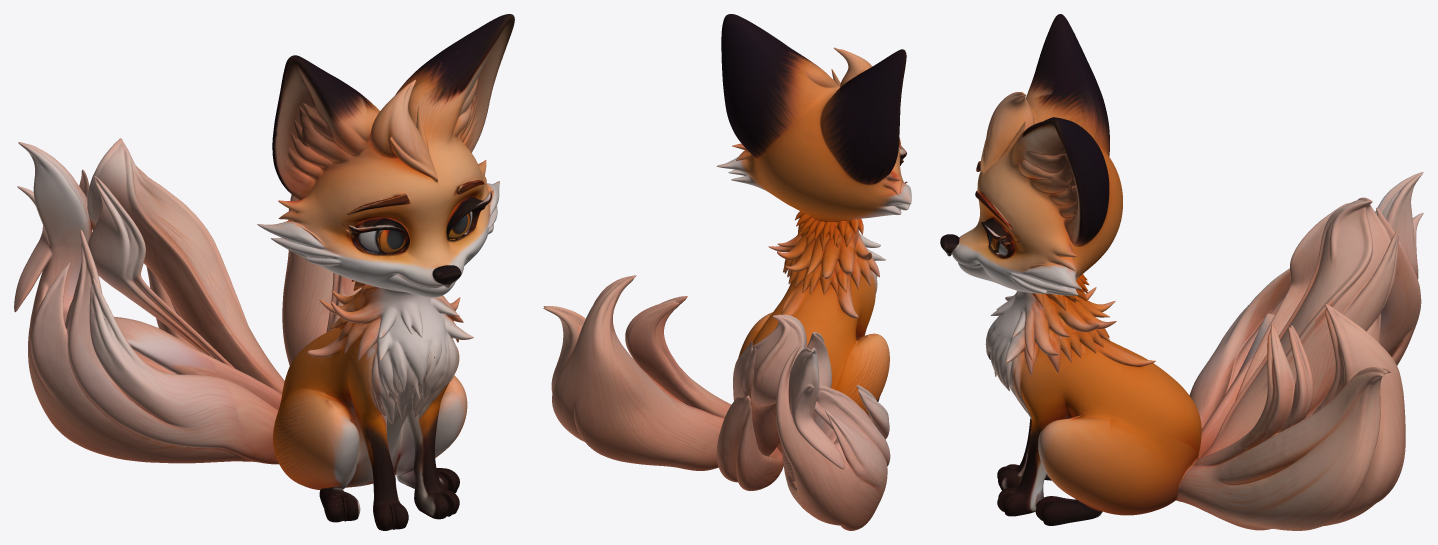
3 views of the same model, side by side, from view 1: azimuth 30°, elevation 25°; view 2: azimuth 150°, elevation 25°; view 3: azimuth 270°, elevation 25° (orthographic). The views are drawn at different scales.
Visible parts, largest first — view 1: texture_pbr_v128; view 2: texture_pbr_v128; view 3: texture_pbr_v128.
Boxes of the visible parts, x1,y1,x2,y2 form: texture_pbr_v128: (14, 14, 514, 530); texture_pbr_v128: (543, 14, 911, 530); texture_pbr_v128: (940, 14, 1423, 530).
Bounding box in the file's own units: 0.7438 × 0.867 × 0.8623.
Materials: 1 (1 with a texture image).
